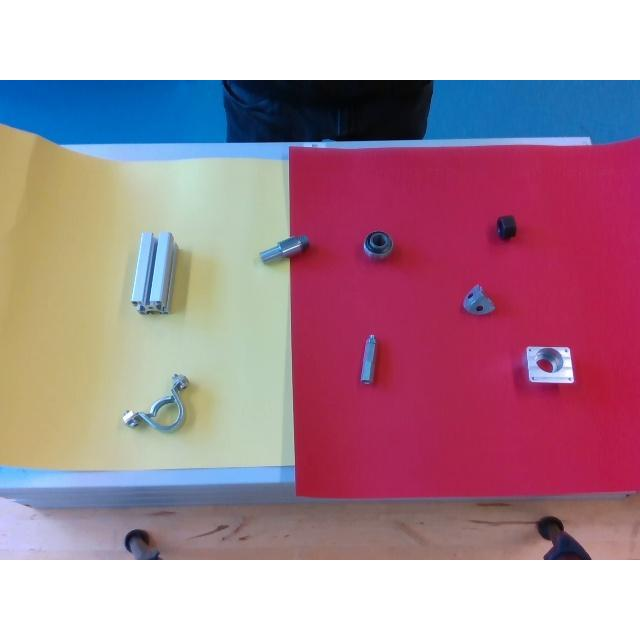Axis2: (260, 233, 308, 264)
Bearing2: (363, 230, 392, 254)
Housing: (123, 378, 187, 430)
M20: (497, 215, 517, 241)
S40_40_G: (130, 232, 173, 312)
